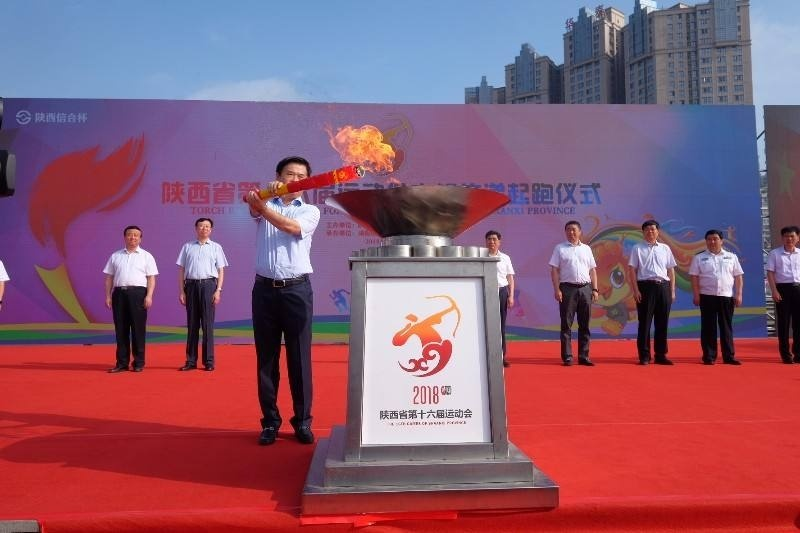fire: (325, 118, 401, 183)
